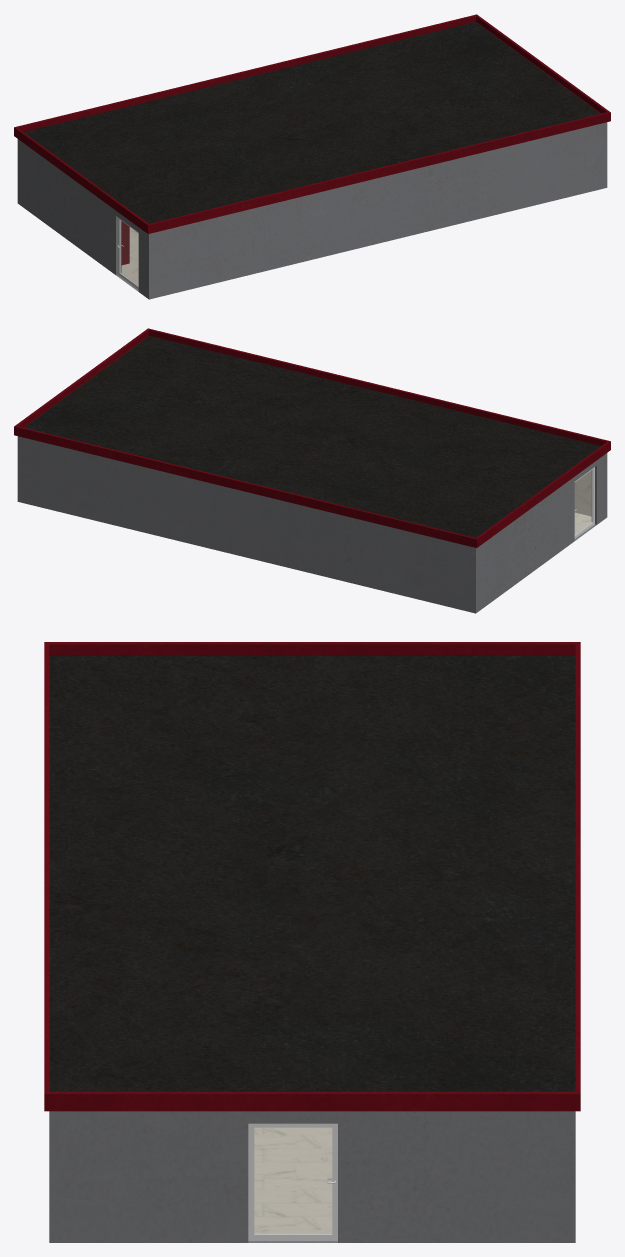
The model's file is shop.fbx.
3 views of the same model, one above another, from view 1: azimuth 30°, elevation 25°; view 2: azimuth 150°, elevation 25°; view 3: azimuth 270°, elevation 25° (orthographic). The views are drawn at different scales.
Visible parts, largest first — view 1: shop, door_2; view 2: shop, door_2; view 3: shop, door_1.
Boxes of the visible parts, box(x1,y1,x2,y2) form: shop: box(14, 14, 610, 299); door_2: box(117, 218, 138, 289); shop: box(14, 328, 610, 613); door_2: box(574, 467, 594, 538); shop: box(44, 642, 580, 1242); door_1: box(248, 1123, 337, 1240).
Bounding box in the file's own units: 1666 × 260 × 836.
